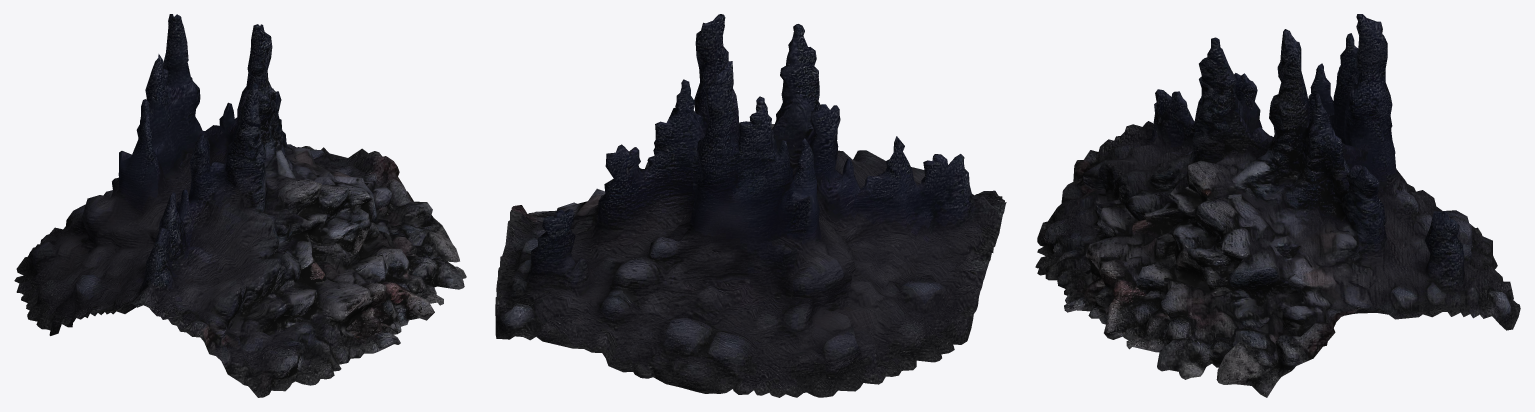
File: selected.fbx
3 renders of one model, left to right at view 1: azimuth 30°, elevation 25°; view 2: azimuth 150°, elevation 25°; view 3: azimuth 270°, elevation 25°, orthographic. The views are drawn at different scales.
Parts seen in each view (by area): view 1: tripo_node_76a87678-4cff-49a8-be72-35615b02b26b; view 2: tripo_node_76a87678-4cff-49a8-be72-35615b02b26b; view 3: tripo_node_76a87678-4cff-49a8-be72-35615b02b26b.
Boxes of the visible parts, <box> form: tripo_node_76a87678-4cff-49a8-be72-35615b02b26b: <box>14,14,466,397</box>; tripo_node_76a87678-4cff-49a8-be72-35615b02b26b: <box>495,14,1006,397</box>; tripo_node_76a87678-4cff-49a8-be72-35615b02b26b: <box>1035,14,1520,397</box>.
Size of the model in its own units: 0.998 by 0.6191 by 0.998.
1 material, 1 textured.
